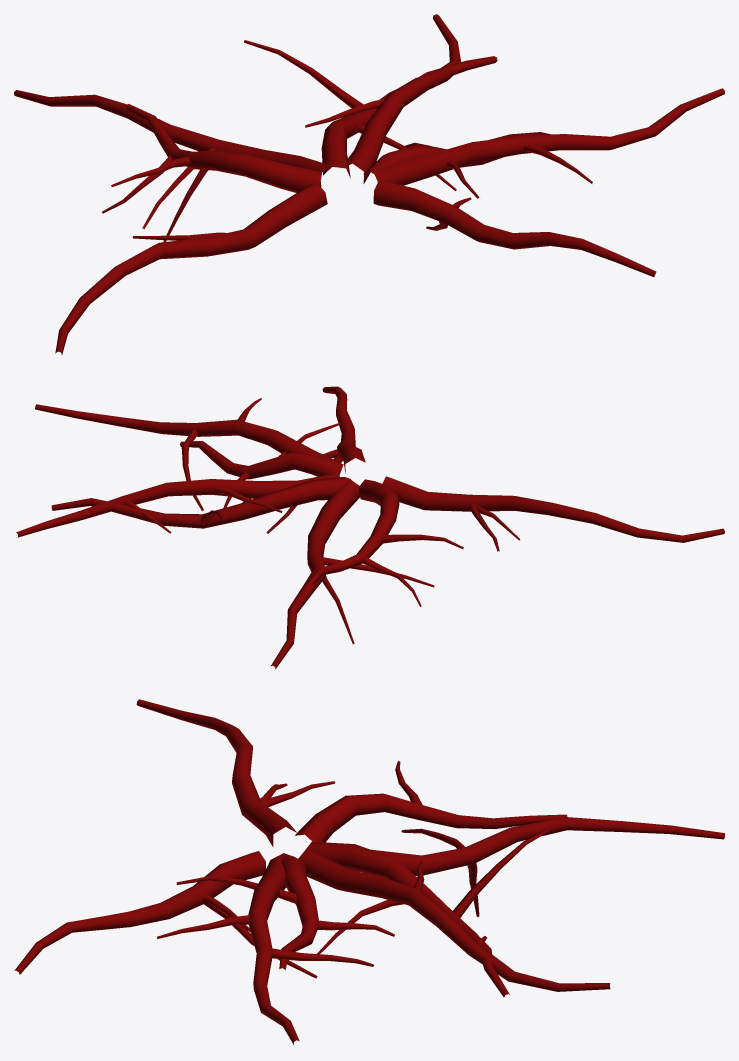
The model's file is roots_a.glb.
3 views of the same model, one above another, from view 1: azimuth 30°, elevation 25°; view 2: azimuth 150°, elevation 25°; view 3: azimuth 270°, elevation 25° (orthographic). The views are drawn at different scales.
Visible parts, largest first — view 1: LOD0; view 2: LOD0; view 3: LOD0.
Part boxes in pixels (bbox=[...]): LOD0: bbox=[14, 14, 724, 354]; LOD0: bbox=[16, 386, 724, 669]; LOD0: bbox=[14, 699, 724, 1044].
Size of what is drawn, in the model's own units: 5.48 by 1.04 by 4.49.
